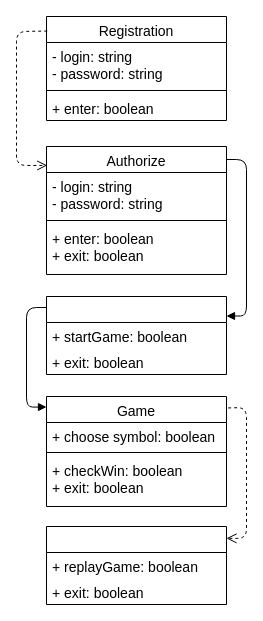
Image size: 263x621. Some labels were removed from this diagram. Here are the shapes that lost their labels. From the top down, the box of each, then its label:
(46, 296, 226, 374): Main Menu
(46, 526, 226, 604): Game Over
